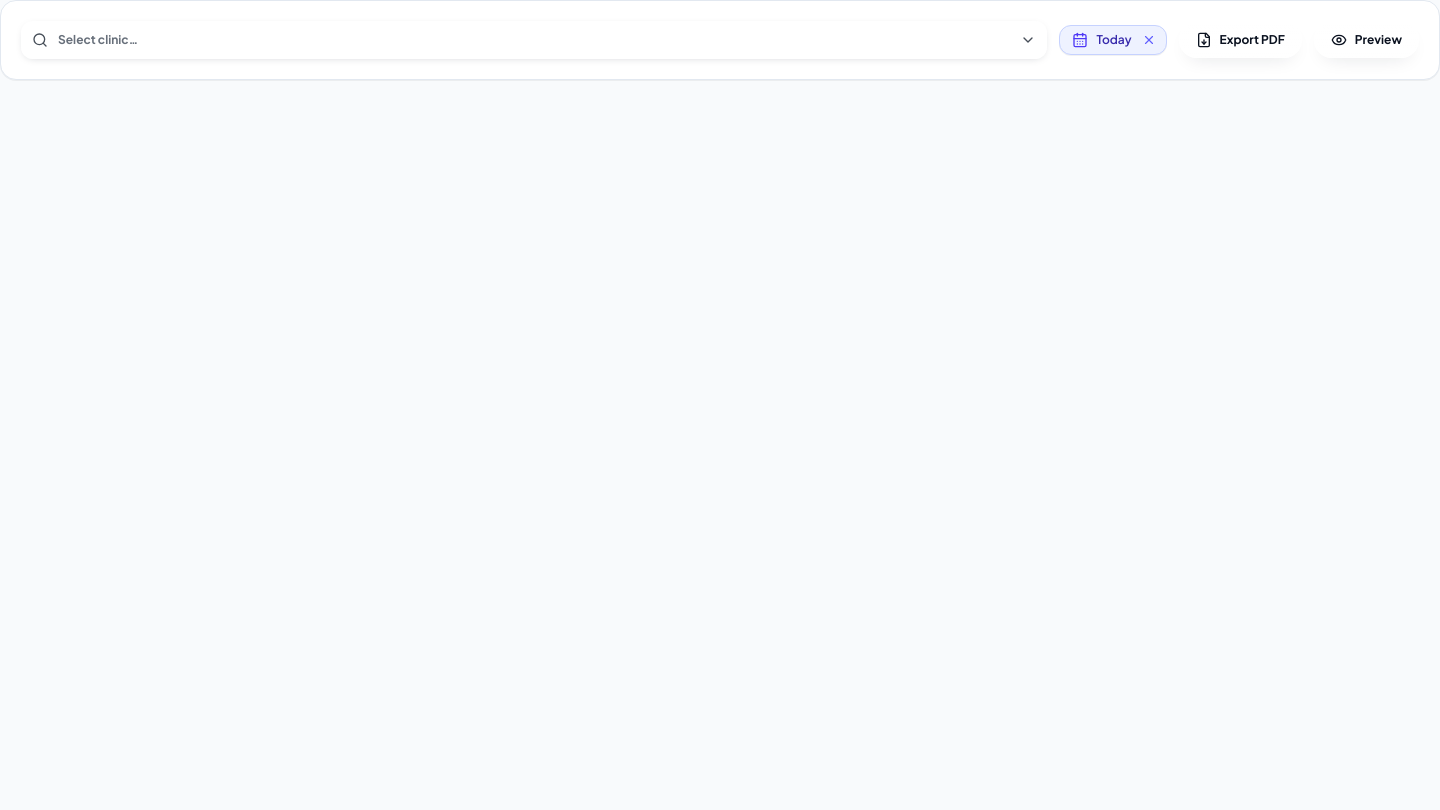
GeneralLedgerView case detail › shows the case identity and both dates on the invoice row
Click the dropdown "Select clinic…".
click(534, 40)  # box [21, 21, 1047, 59]
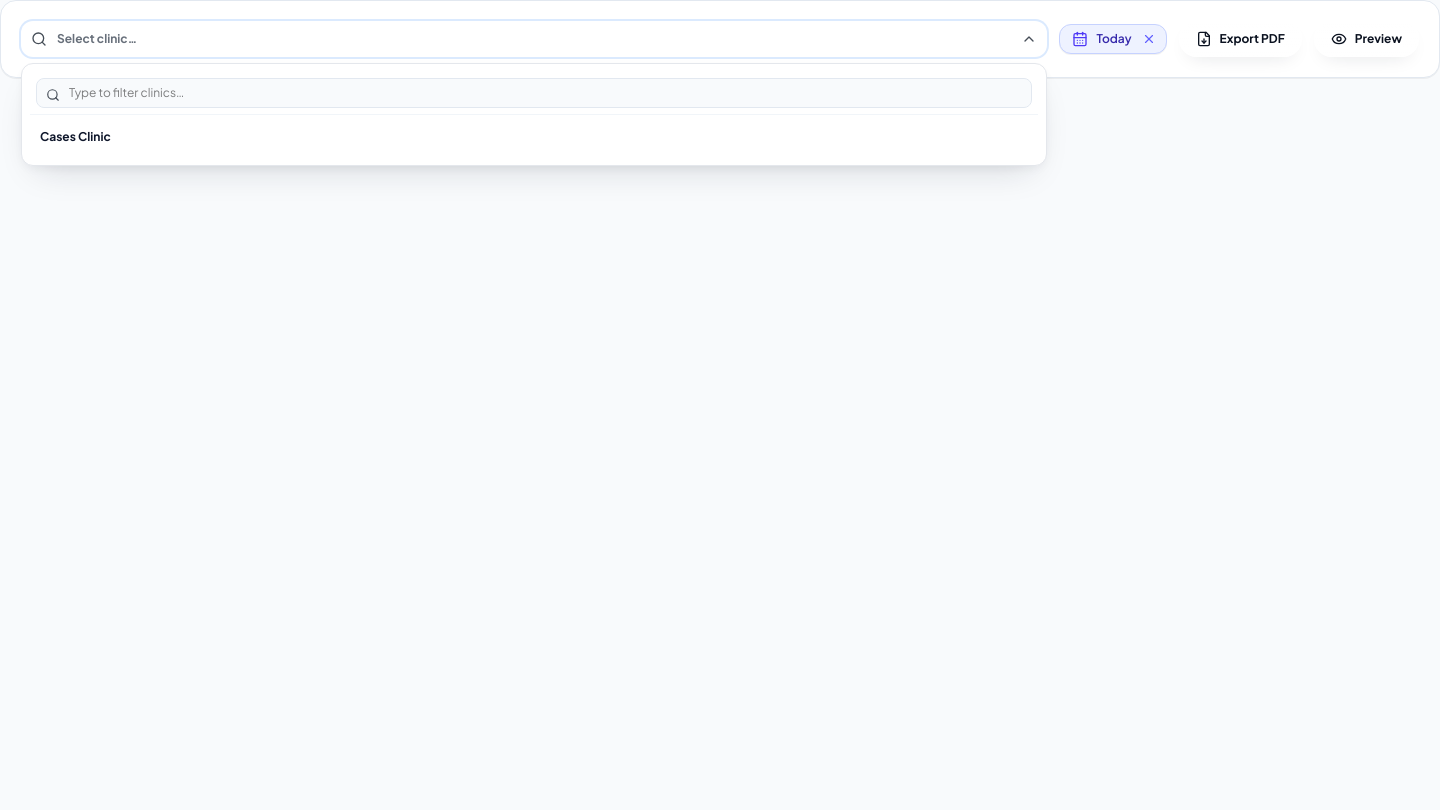
Click the option "Cases Clinic".
click(75, 136)  # box [30, 119, 1038, 157]
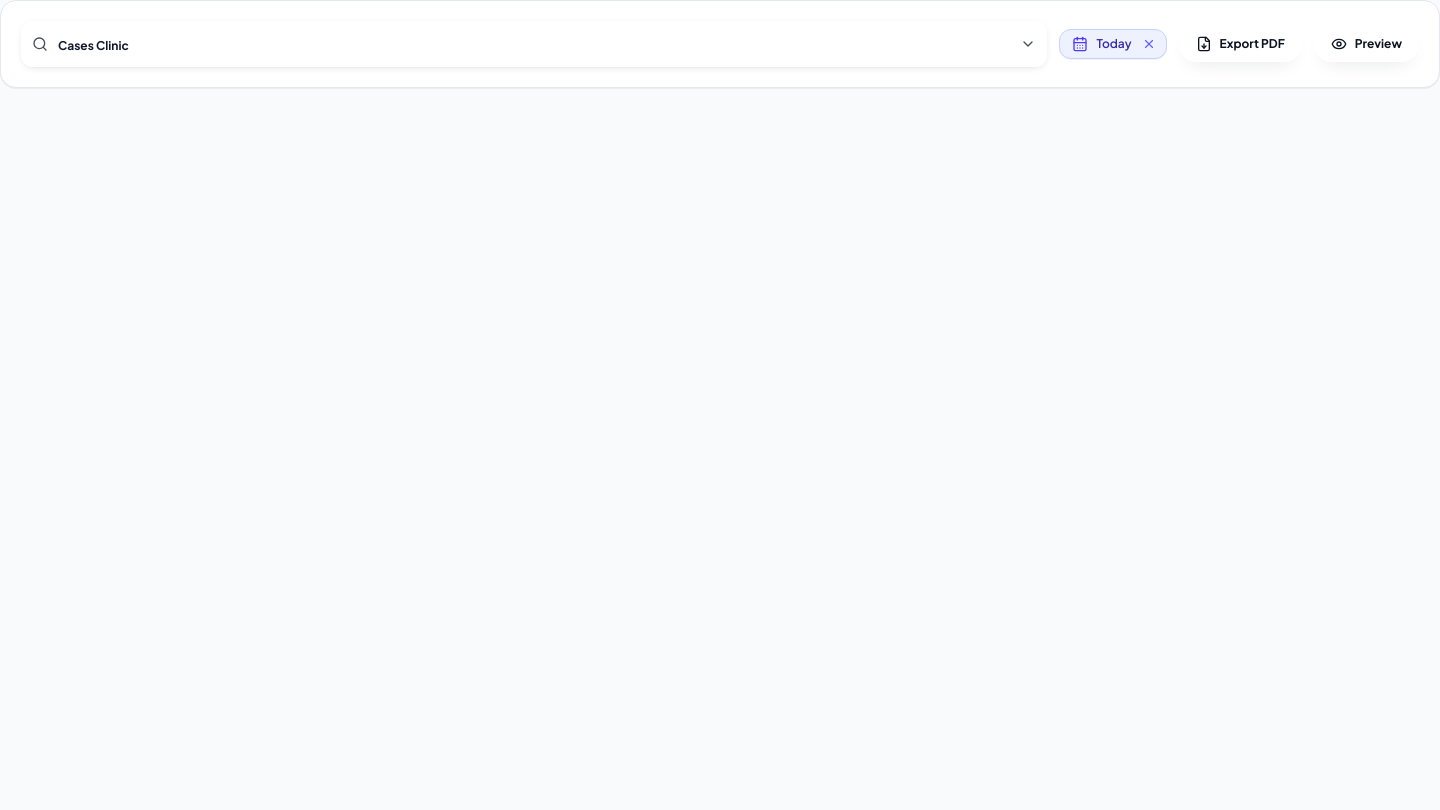
Click the button "Today".
click(1099, 44)  # box [1060, 30, 1138, 58]
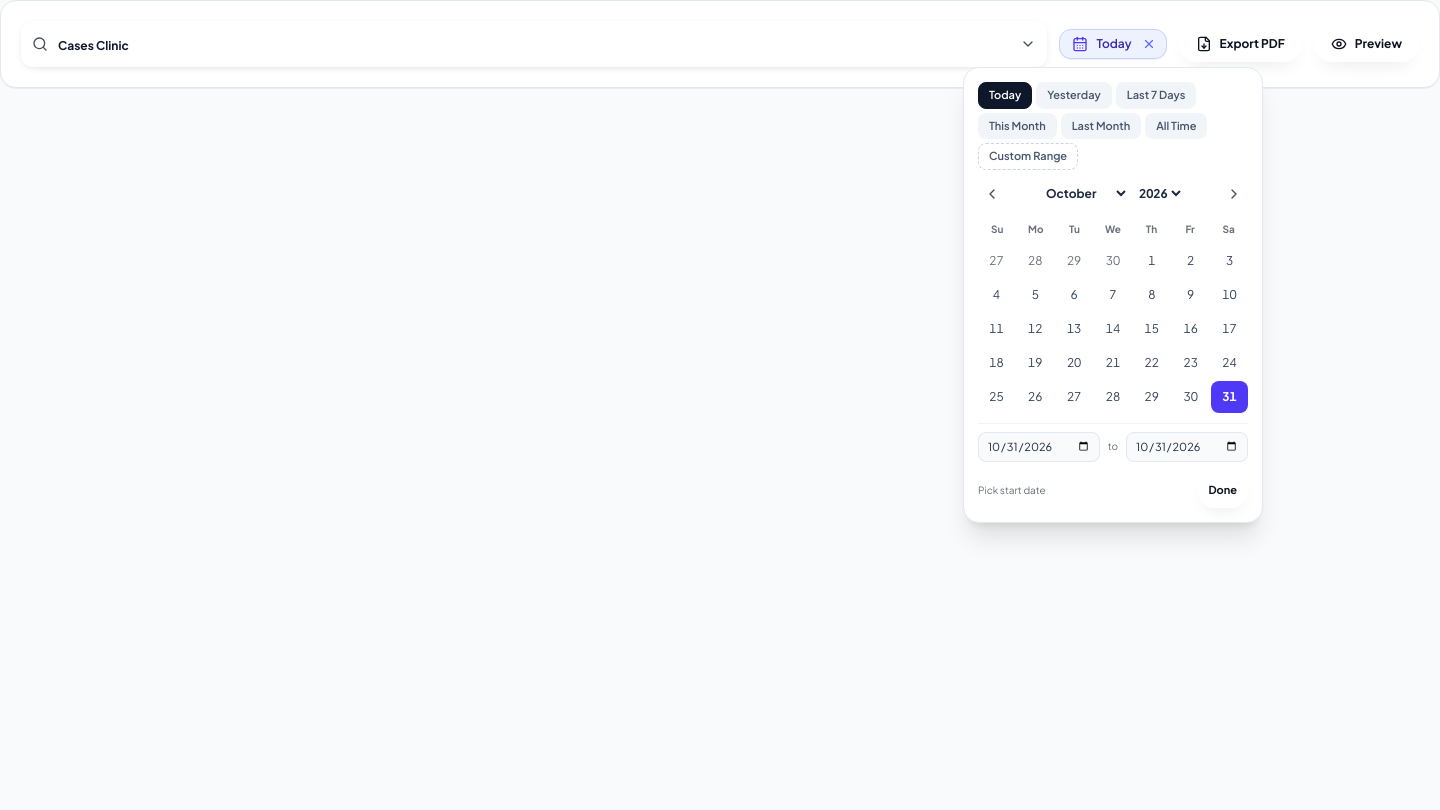
Click the button "All Time".
click(1176, 126)  # box [1145, 112, 1207, 139]
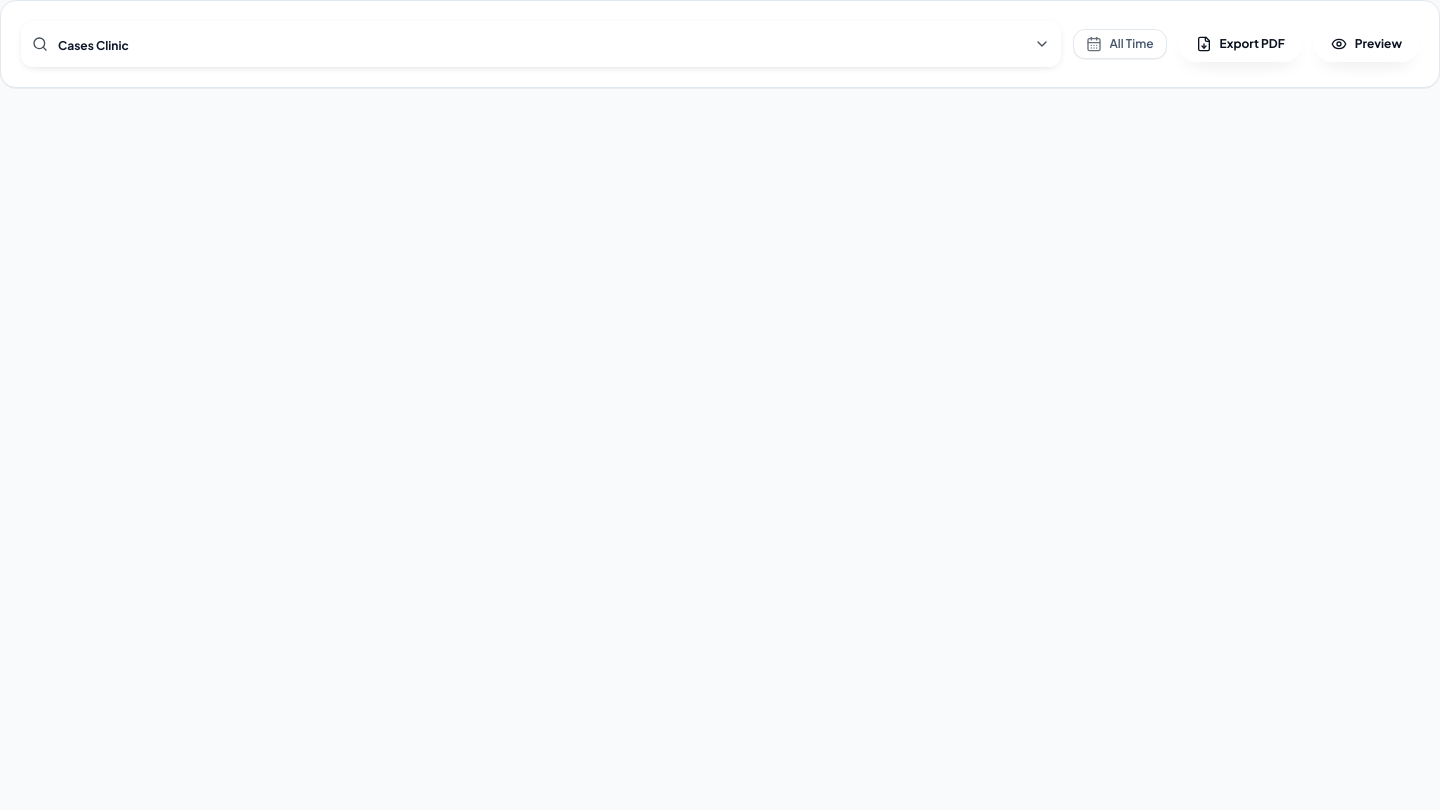
Click the button "Preview".
click(1366, 44)  # box [1314, 26, 1419, 62]
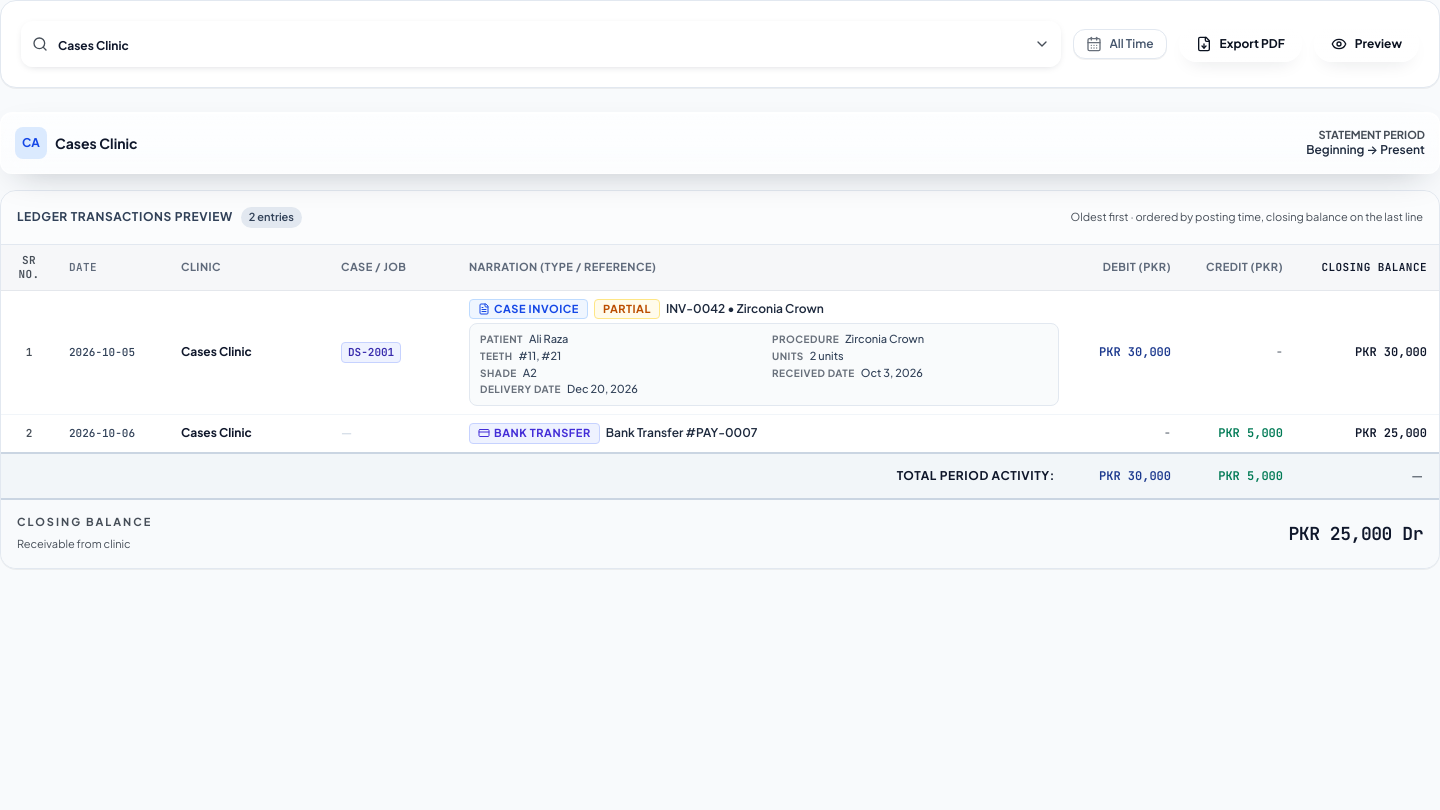
Check: the text "Patient" is shown, box [480, 334, 523, 347]
Check: the text "Ali Raza" is shown, box [529, 332, 568, 347]
Check: the text "Procedure" is shown, box [772, 334, 839, 347]
